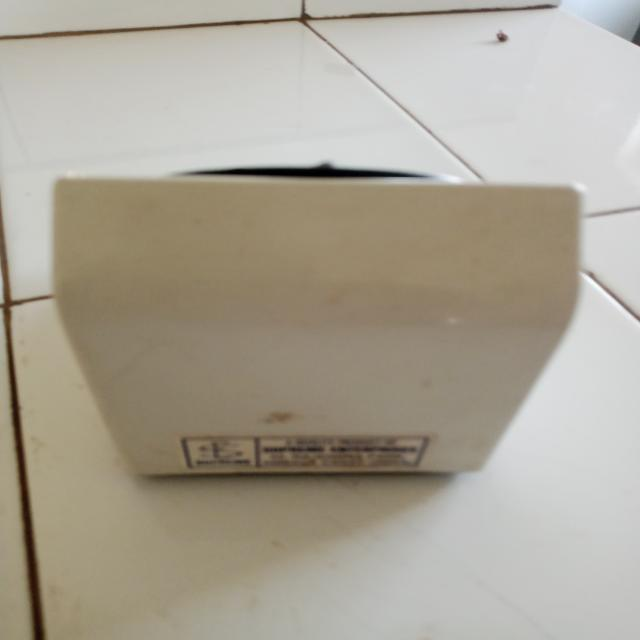Ammeter Analog: (38, 173, 595, 485)
